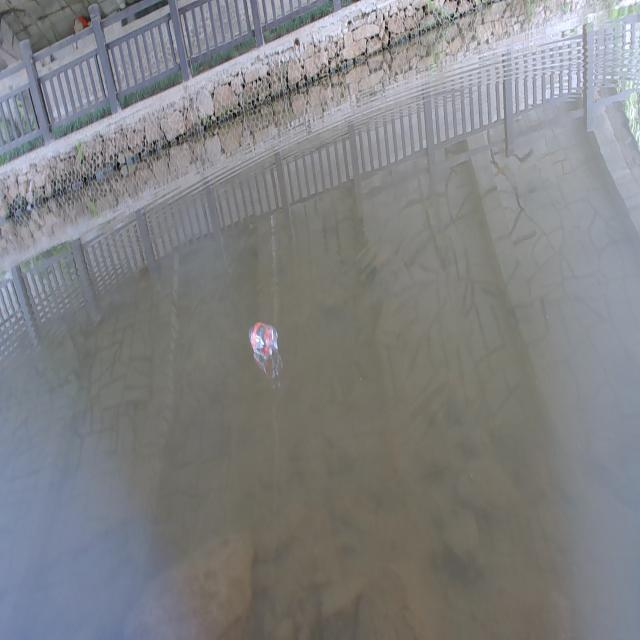Bottle: (246, 318, 280, 359)
